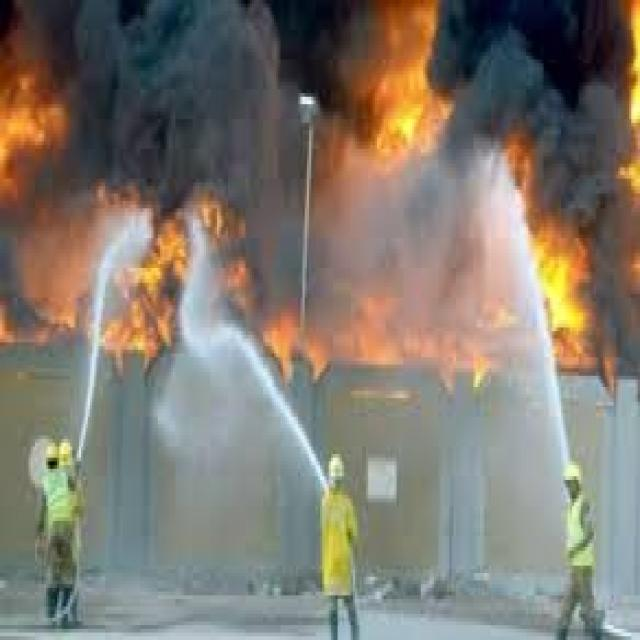Fire: (197, 197, 335, 380), (506, 134, 598, 372), (333, 0, 447, 164), (103, 216, 188, 368), (355, 294, 511, 365), (627, 4, 640, 160)
Smoke: (441, 0, 640, 391)
